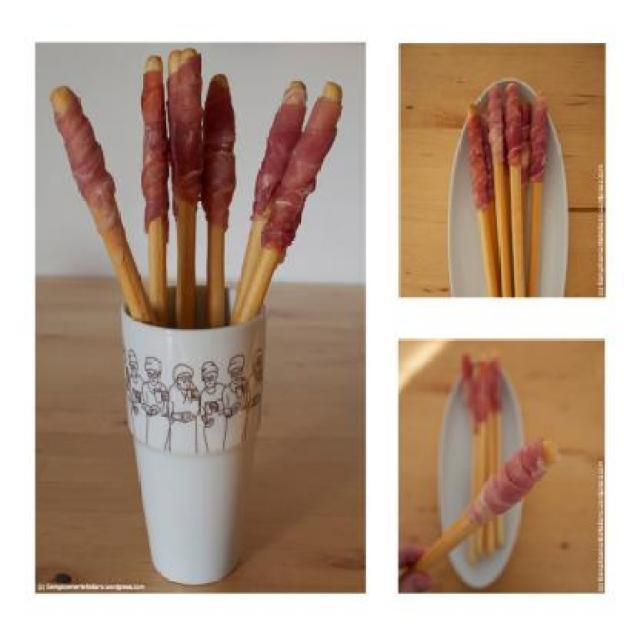Grissini: (52, 47, 344, 325), (419, 438, 561, 570), (464, 83, 552, 294)
